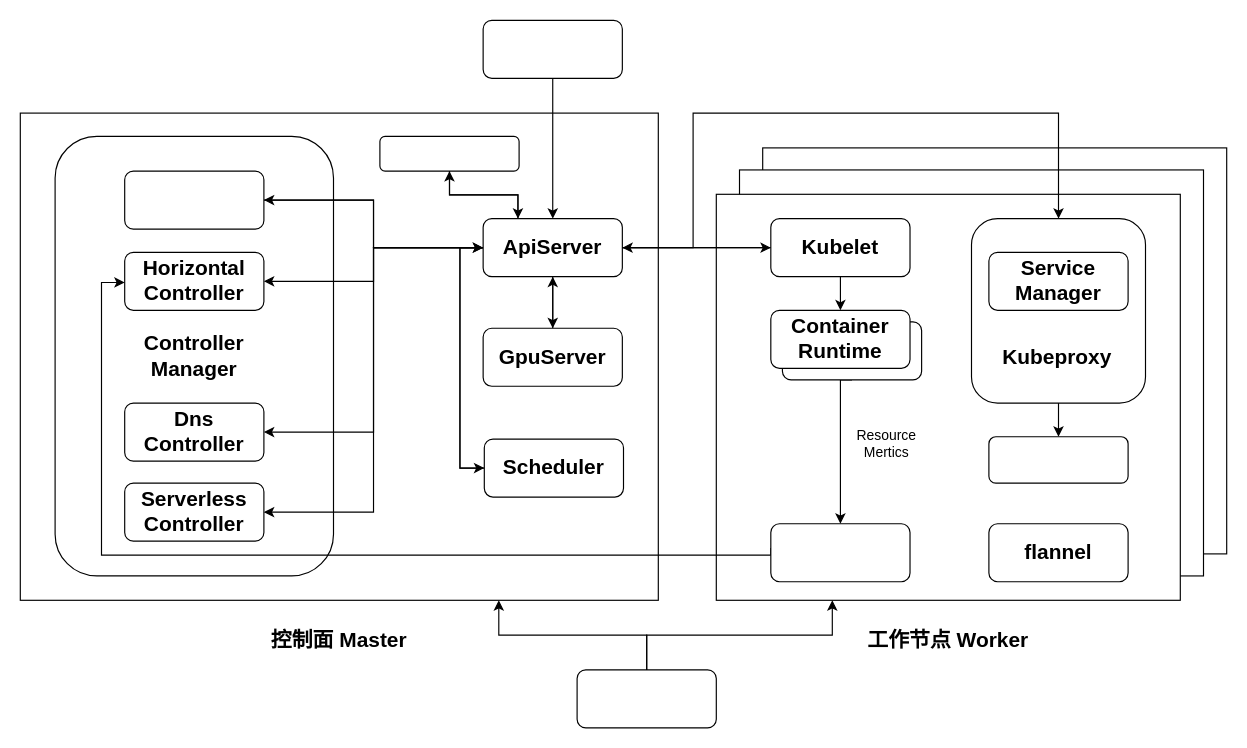
This 1247x748 diagram has some shape labels left out. Each missing label, with the centre of its shape:
cadvisor: [840,552]
etcd: [449,153]
ipvs: [1058,459]
kubectl: [552,48]
Node Manager: [646,698]
ReplicaSet Controller: [194,199]
